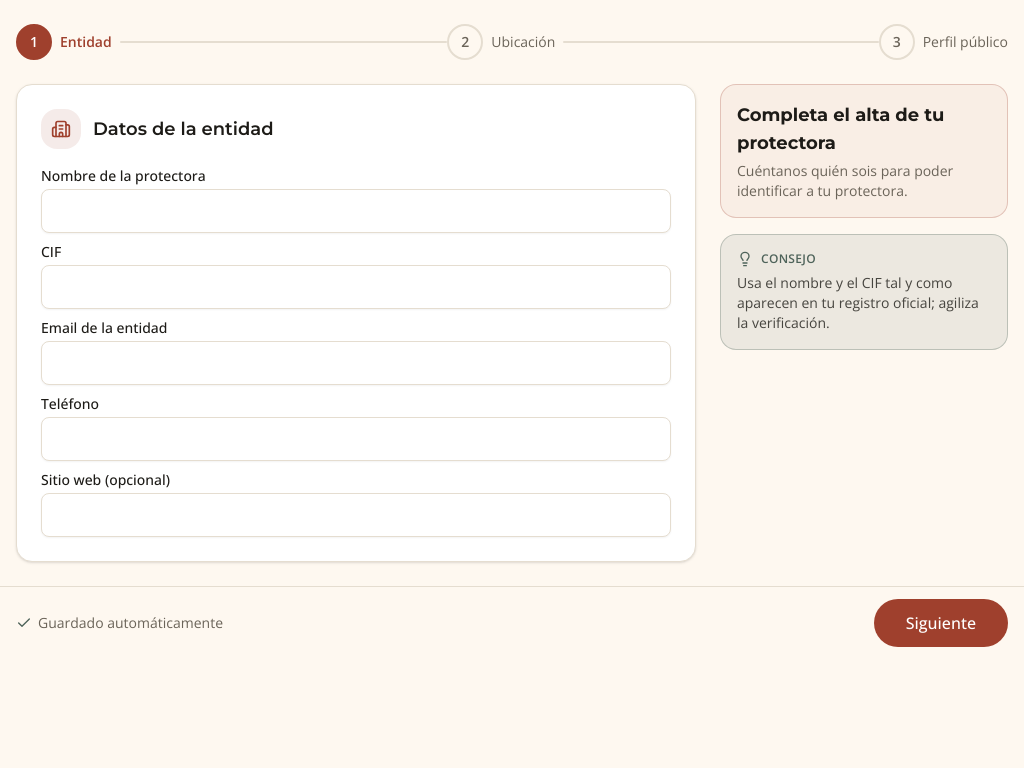
Scenario: WizardAlta › muestra aviso claro si el CIF/email ya está registrado (23505)
This screenshot has width=1024, height=768.
Type "Refugio Esperanza" into the field labelled "Nombre de la protectora" at [356, 211], box [41, 189, 671, 233]
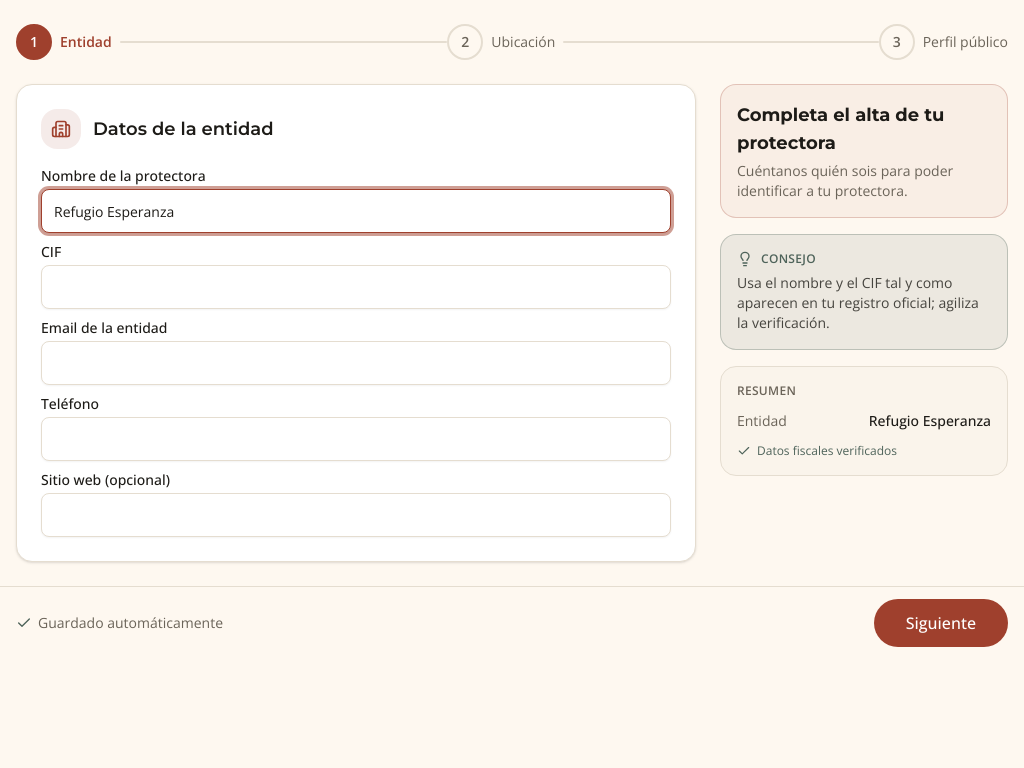
Type "B98000003" into the field labelled "CIF" at [356, 287], box [41, 265, 671, 309]
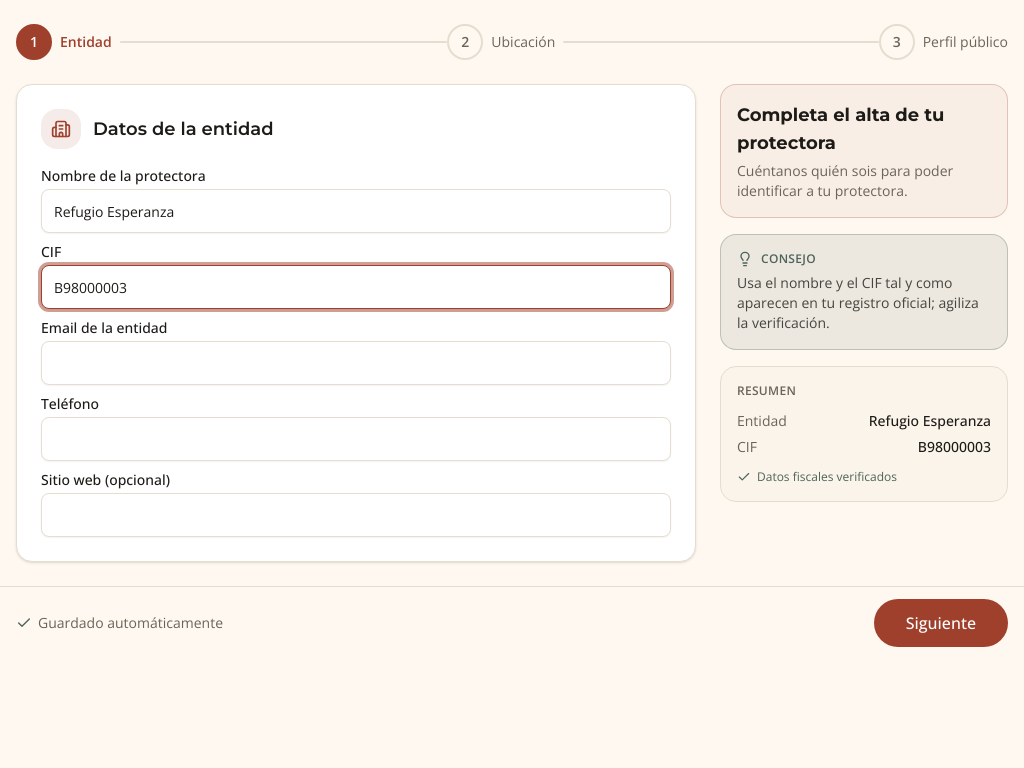
Type "hola@refugio.org" into the field labelled "Email de la entidad" at [356, 363], box [41, 341, 671, 385]
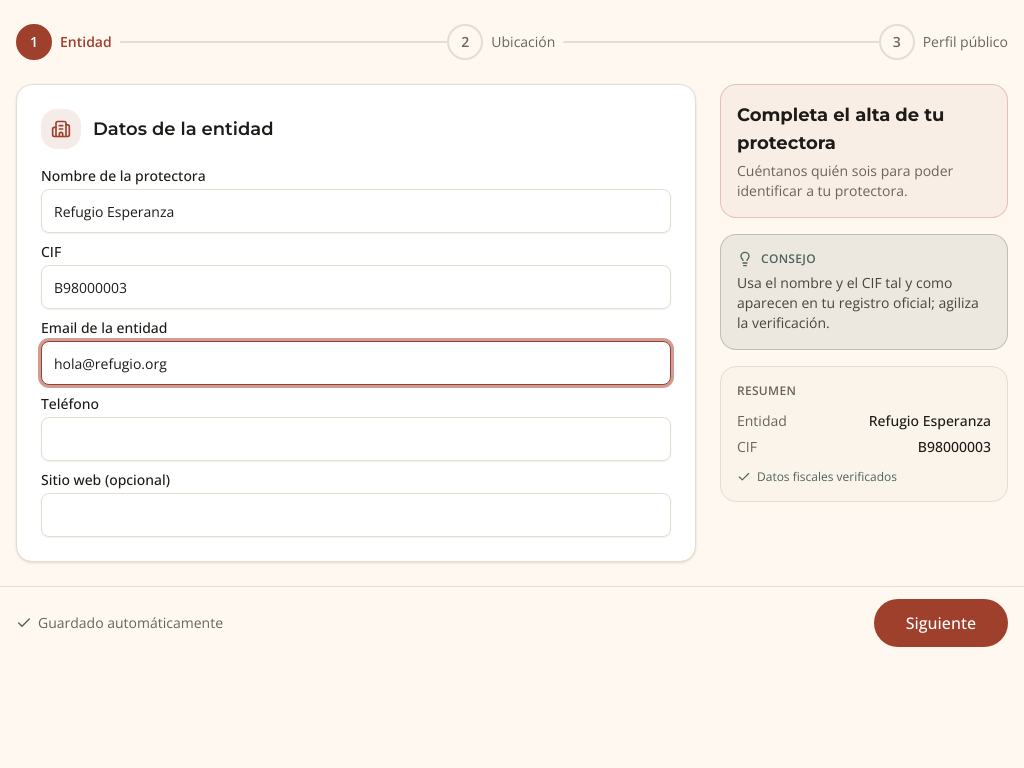
Type "600123456" into the field labelled "Teléfono" at [356, 439], box [41, 417, 671, 461]
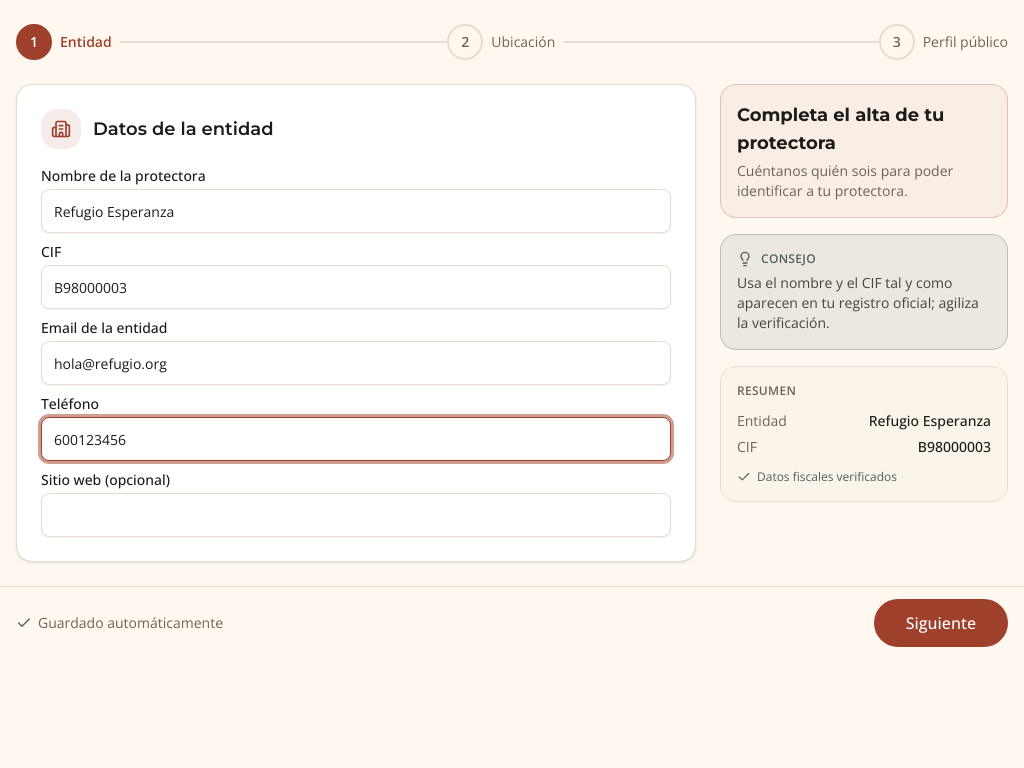
Click the button "Siguiente" at [941, 623], box [874, 599, 1008, 647]
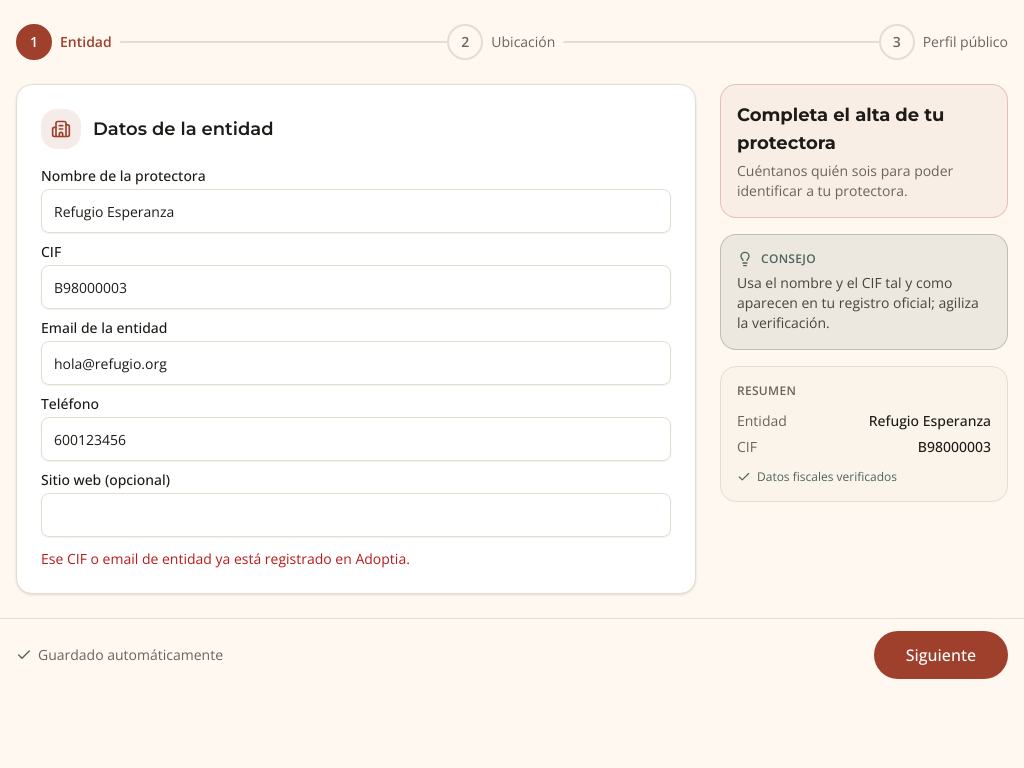
Result: the text "Ese CIF o email de entidad ya está registrado en Adoptia." is shown at [41, 549, 410, 568]
